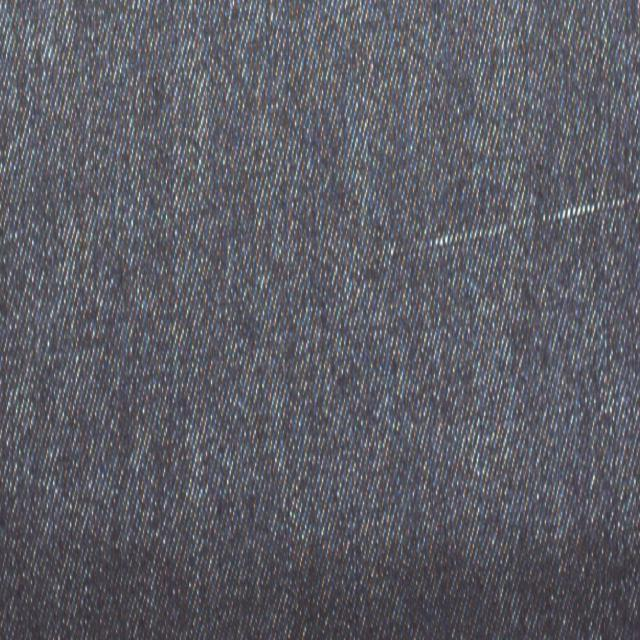Line: (378, 188, 640, 267)
